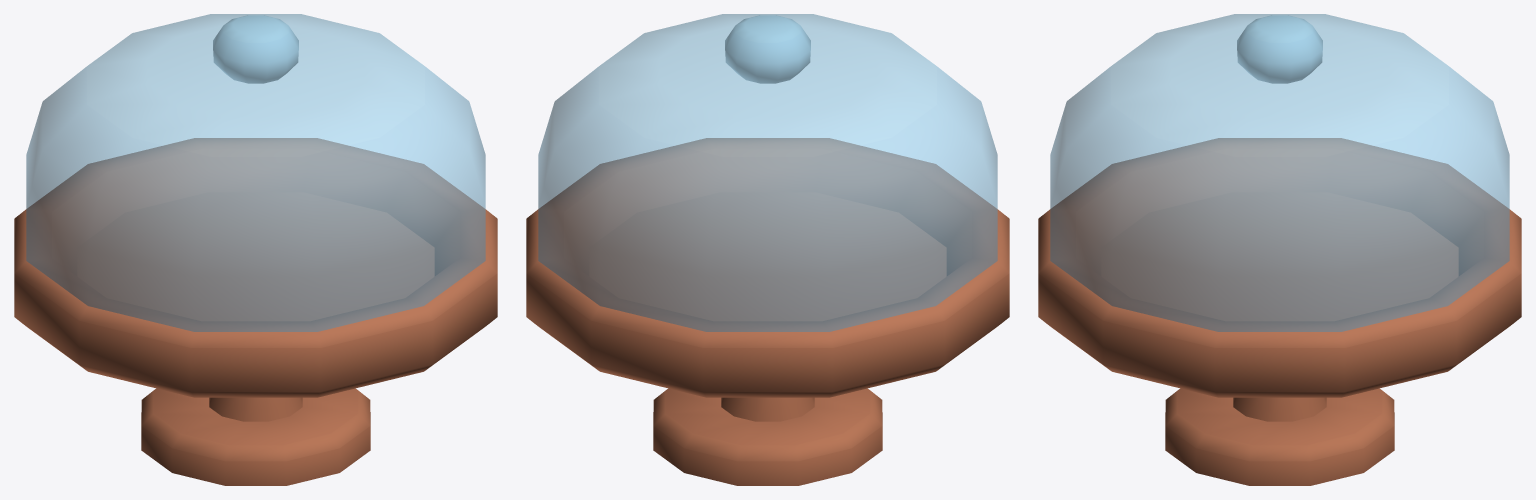
Rendered from pastry-stand-a-covered.glb.
3 renders of one model, left to right at view 1: azimuth 30°, elevation 25°; view 2: azimuth 150°, elevation 25°; view 3: azimuth 270°, elevation 25°, orthographic.
Visible parts, largest first — view 1: pastry_stand_A_covered; view 2: pastry_stand_A_covered; view 3: pastry_stand_A_covered.
Part boxes in pixels (x1,y1,x2,y2): pastry_stand_A_covered: (14, 14, 497, 485); pastry_stand_A_covered: (526, 14, 1009, 485); pastry_stand_A_covered: (1038, 14, 1521, 485).
Bounding box in the file's own units: 0.8 × 0.754 × 0.8.
2 materials, 2 textured.
